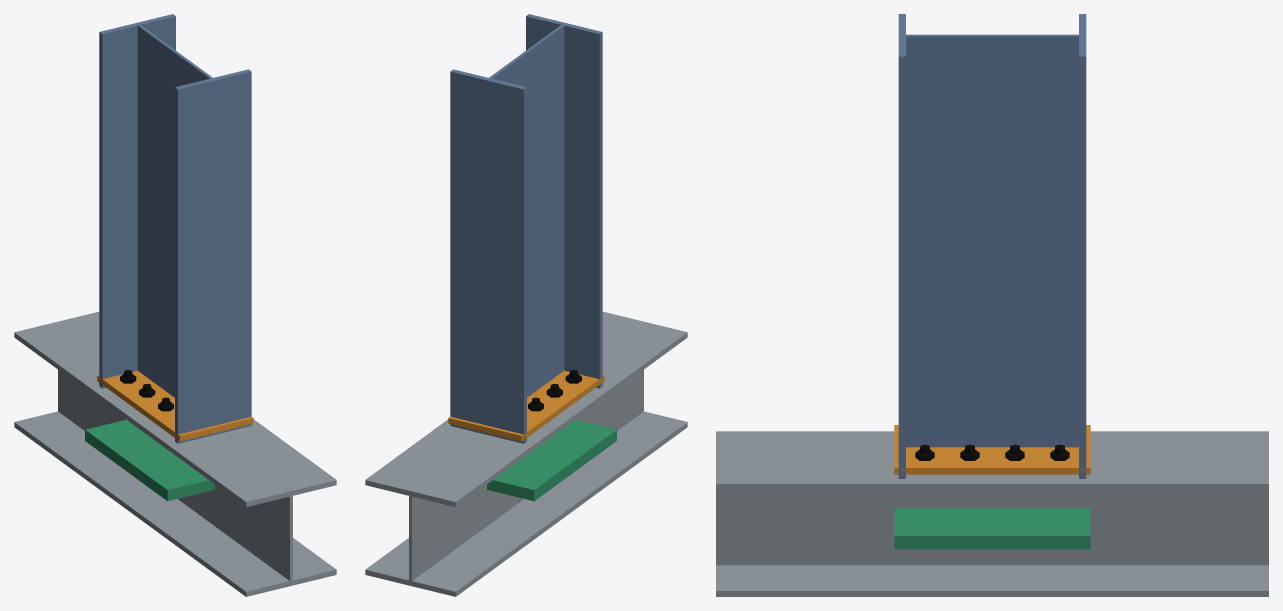
The model's file is detail_A6_beam_to_column_flange_connection.obj.
3 views of the same model, side by side, from view 1: azimuth 30°, elevation 25°; view 2: azimuth 150°, elevation 25°; view 3: azimuth 270°, elevation 25° (orthographic). The views are drawn at different scales.
Parts seen in each view (by area): view 1: A6_beam_to_column_flange_top_flange, A6_beam_to_column_flange_bottom_flange, A6_beam_to_column_flange_web, A6_UC203x203_column_flange_far, A6_UC203x203_column_flange_near, A6_UC203x203_column_web, A6_PL8_column_stiffener, A6_PL12_end_plate_165x320; view 2: A6_beam_to_column_flange_bottom_flange, A6_beam_to_column_flange_top_flange, A6_beam_to_column_flange_web, A6_UC203x203_column_flange_far, A6_UC203x203_column_flange_near, A6_UC203x203_column_web, A6_PL8_column_stiffener, A6_PL12_end_plate_165x320; view 3: A6_beam_to_column_flange_web, A6_UC203x203_column_web, A6_UC203x203_column_flange_far, A6_UC203x203_column_flange_near, A6_PL8_column_stiffener, A6_PL12_end_plate_165x320, A6_beam_to_column_flange_top_flange, A6_beam_to_column_flange_bottom_flange.
Part boxes in pixels (x1=…): A6_beam_to_column_flange_top_flange: x1=175, y1=69, x2=251, y2=443; A6_beam_to_column_flange_bottom_flange: x1=99, y1=14, x2=175, y2=388; A6_beam_to_column_flange_web: x1=137, y1=25, x2=212, y2=397; A6_UC203x203_column_flange_far: x1=14, y1=311, x2=336, y2=507; A6_UC203x203_column_flange_near: x1=14, y1=411, x2=336, y2=596; A6_UC203x203_column_web: x1=58, y1=370, x2=292, y2=580; A6_PL8_column_stiffener: x1=85, y1=419, x2=214, y2=501; A6_PL12_end_plate_165x320: x1=97, y1=370, x2=253, y2=441; A6_beam_to_column_flange_bottom_flange: x1=450, y1=69, x2=526, y2=443; A6_beam_to_column_flange_top_flange: x1=526, y1=14, x2=602, y2=388; A6_beam_to_column_flange_web: x1=489, y1=25, x2=564, y2=397; A6_UC203x203_column_flange_far: x1=365, y1=311, x2=687, y2=507; A6_UC203x203_column_flange_near: x1=365, y1=411, x2=687, y2=596; A6_UC203x203_column_web: x1=409, y1=370, x2=643, y2=580; A6_PL8_column_stiffener: x1=487, y1=419, x2=616, y2=501; A6_PL12_end_plate_165x320: x1=448, y1=370, x2=604, y2=441; A6_beam_to_column_flange_web: x1=906, y1=34, x2=1078, y2=447; A6_UC203x203_column_web: x1=716, y1=490, x2=1268, y2=565; A6_UC203x203_column_flange_far: x1=716, y1=431, x2=1268, y2=489; A6_UC203x203_column_flange_near: x1=716, y1=565, x2=1268, y2=596; A6_PL8_column_stiffener: x1=894, y1=508, x2=1090, y2=549; A6_PL12_end_plate_165x320: x1=894, y1=425, x2=1090, y2=474; A6_beam_to_column_flange_top_flange: x1=898, y1=14, x2=905, y2=478; A6_beam_to_column_flange_bottom_flange: x1=1079, y1=14, x2=1086, y2=478.
Size of the model in its own units: 220 by 962 by 900.
